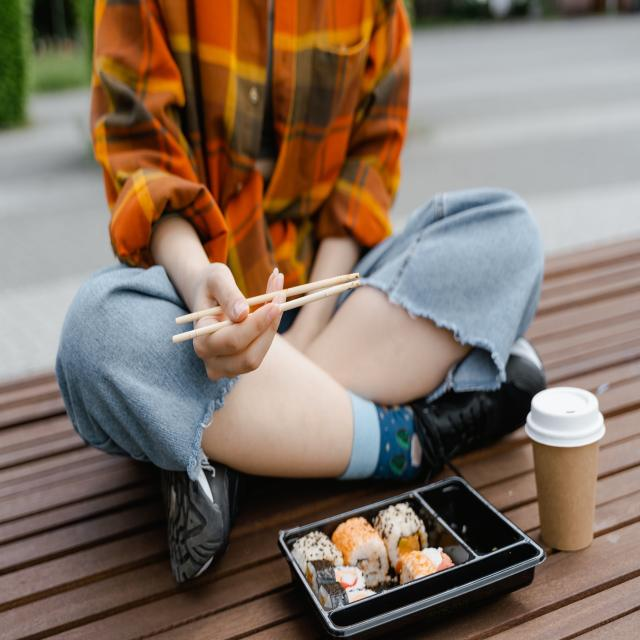cup: (524, 387, 606, 555)
